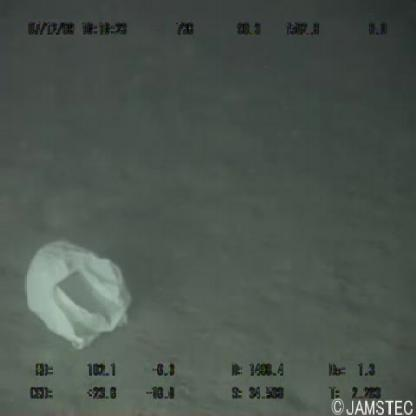Rác: (16, 232, 138, 354)
